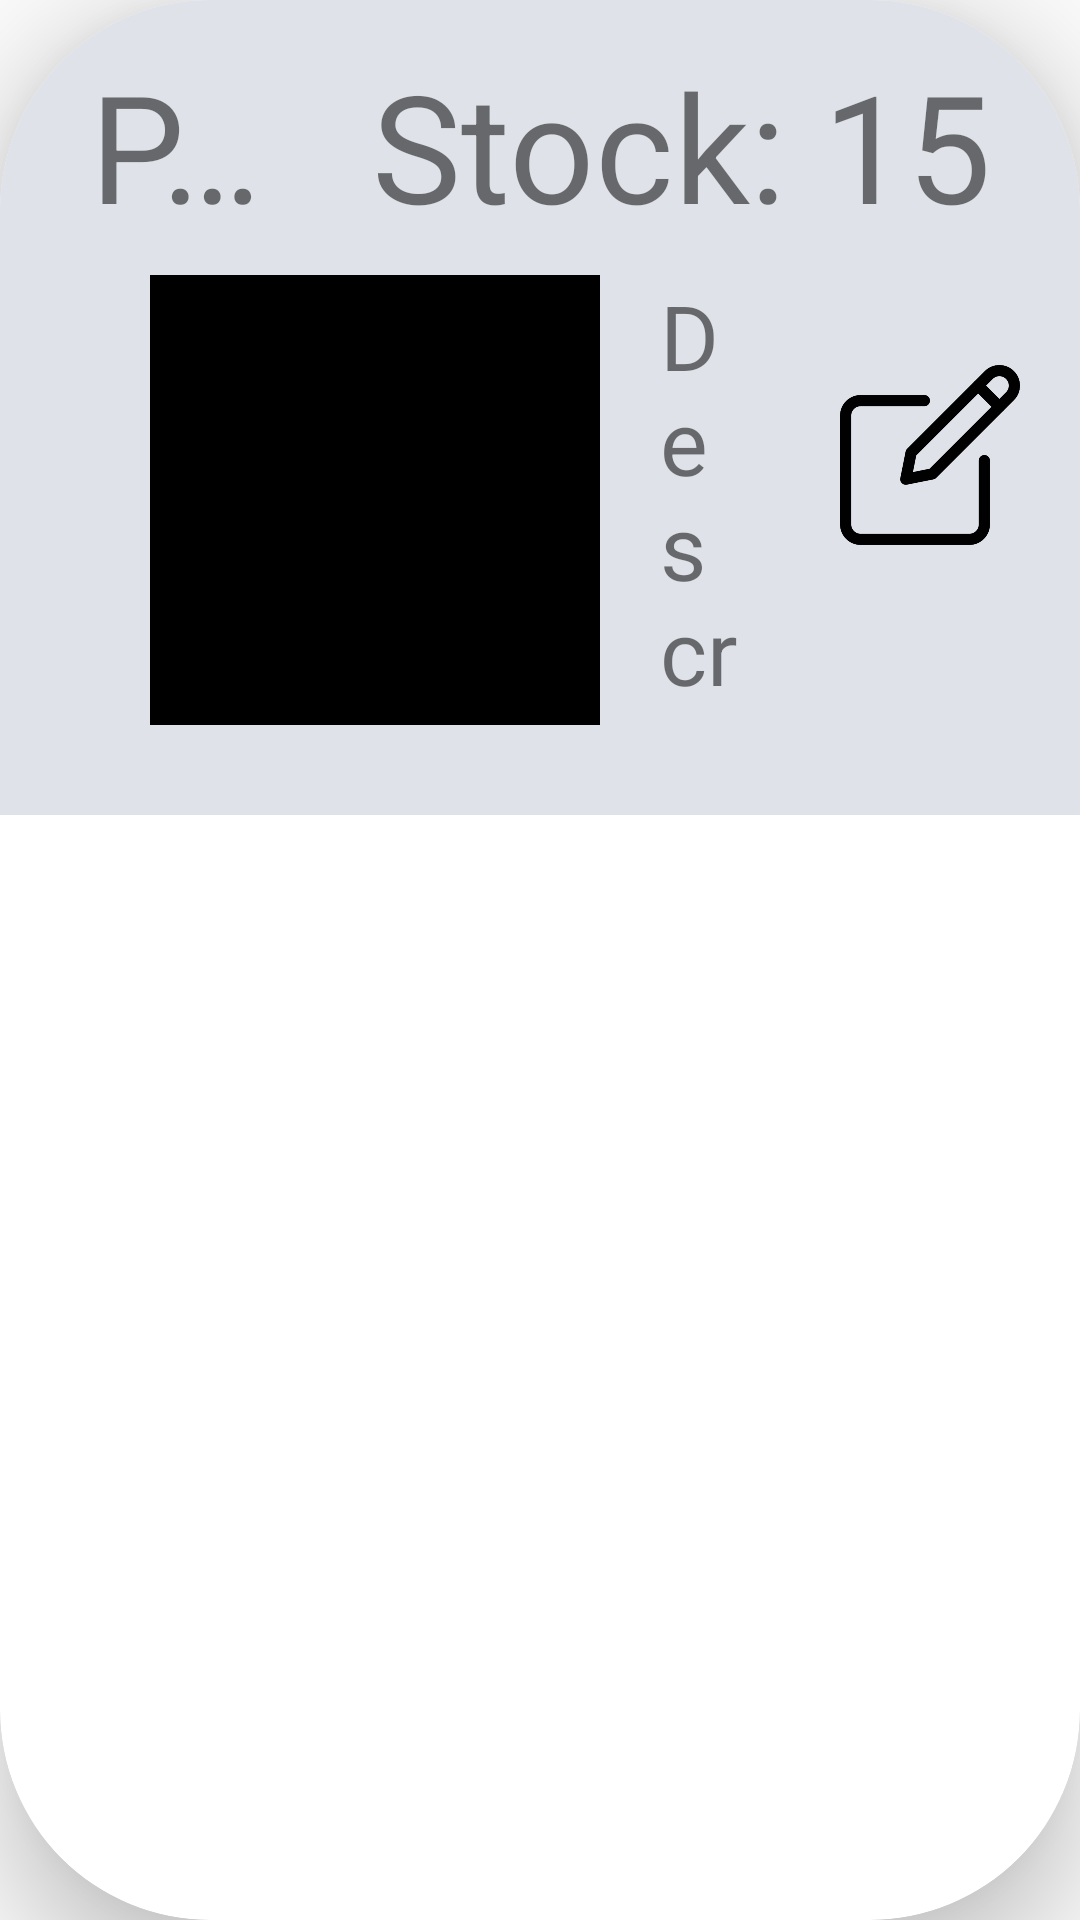

Icon click points for this 1080px x 1920px phone screenshot, format [x,y]:
editar: [930,455]
